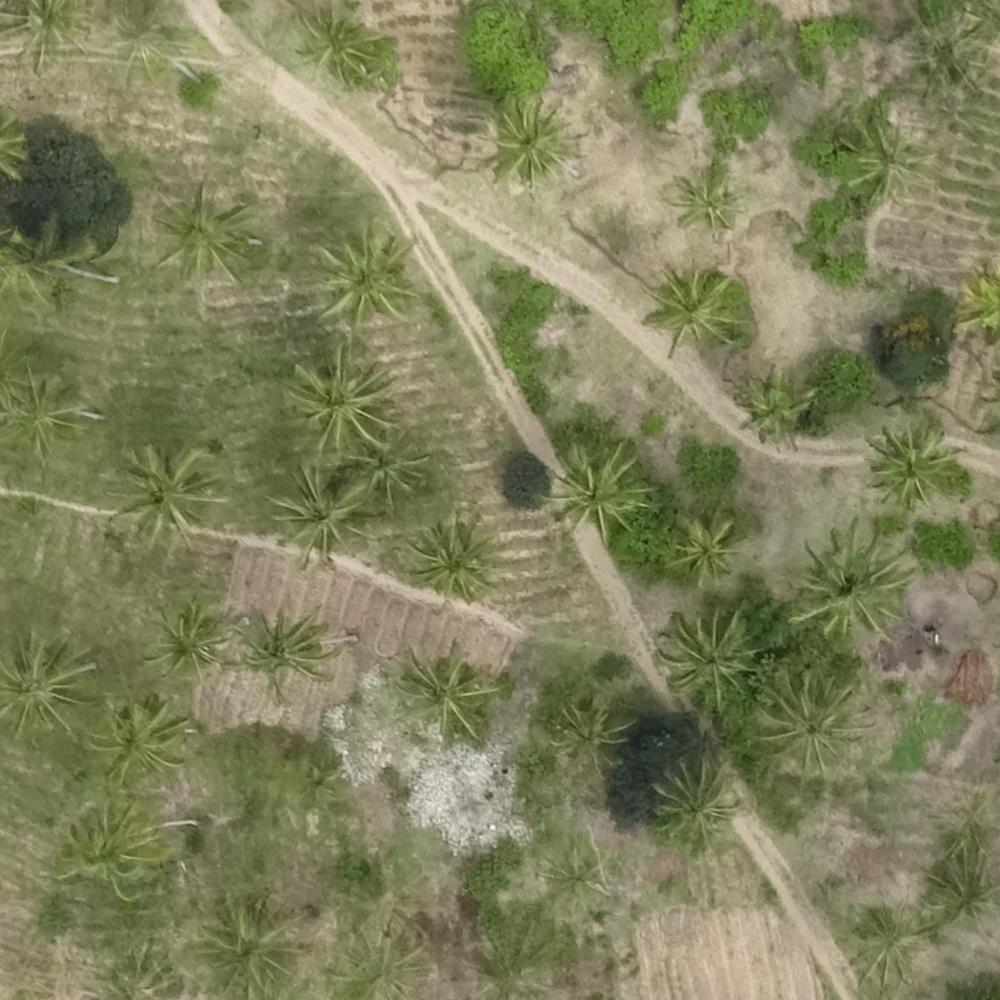Palm: (749, 667, 862, 774), (288, 348, 394, 451), (793, 535, 899, 638), (1, 633, 98, 741), (154, 180, 253, 284), (112, 444, 221, 538), (395, 644, 494, 745), (311, 226, 409, 326), (653, 609, 758, 699), (230, 602, 330, 696), (200, 899, 299, 993), (270, 463, 368, 556), (548, 445, 646, 532), (867, 419, 954, 507), (94, 700, 188, 781), (650, 758, 737, 845), (646, 264, 737, 347), (408, 519, 494, 604), (1, 365, 81, 456), (842, 118, 929, 198), (351, 430, 433, 511), (486, 93, 569, 173), (550, 698, 631, 777), (145, 600, 225, 679), (299, 9, 377, 83), (736, 369, 811, 440), (672, 519, 741, 580), (672, 166, 734, 228)
